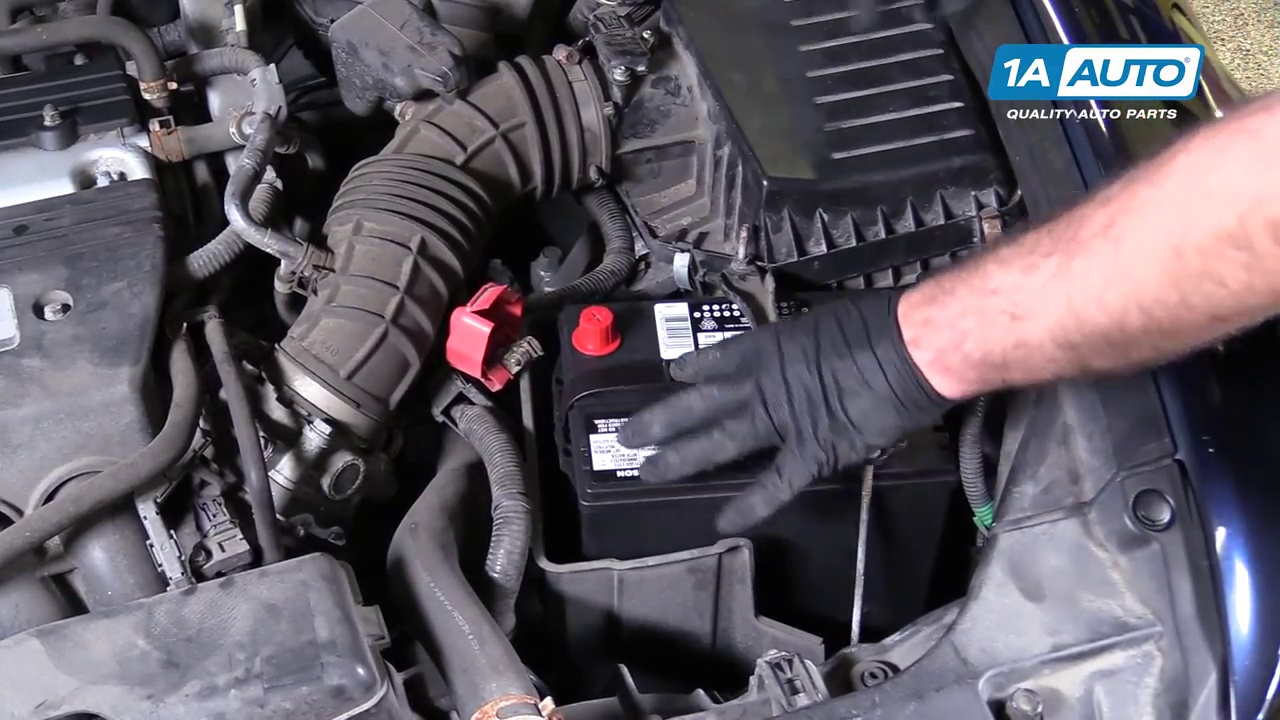battery: (552, 285, 955, 483)
pos_disconnected: (411, 297, 642, 407)
